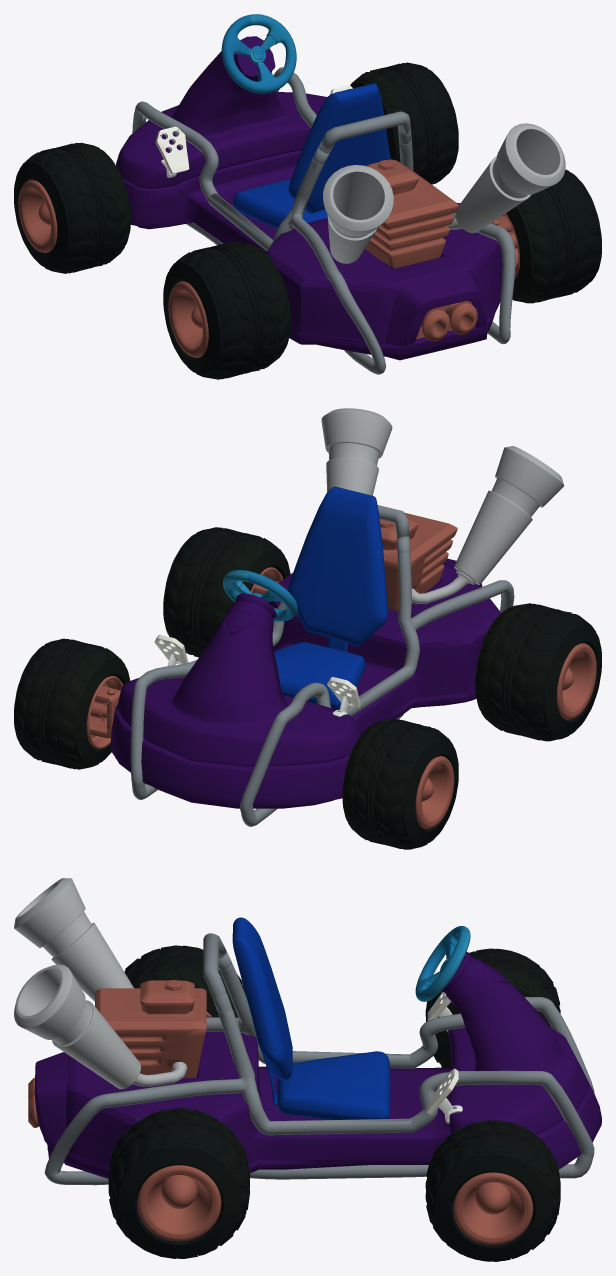
3 views of the same model, one above another, from view 1: azimuth 30°, elevation 25°; view 2: azimuth 150°, elevation 25°; view 3: azimuth 270°, elevation 25° (orthographic). The views are drawn at different scales.
Parts seen in each view (by area): view 1: kart, kart.035, kart.100, kart.099, kart.022, kart.024, kart.043, kart.017, kart.056, kart.002; view 2: kart, kart.035, kart.022, kart.099, kart.100, kart.043, kart.024, kart.017, kart.002, kart.037; view 3: kart, kart.035, kart.100, kart.099, kart.022, kart.043, kart.024, kart.017, kart.002.
Boxes of the visible parts, x1,y1,x2,y2 form: kart: [116, 36, 502, 360]; kart.035: [14, 62, 601, 379]; kart.100: [132, 67, 515, 374]; kart.099: [323, 123, 565, 263]; kart.022: [232, 83, 390, 228]; kart.024: [365, 159, 458, 268]; kart.043: [18, 180, 519, 357]; kart.017: [221, 14, 296, 93]; kart.056: [416, 300, 477, 341]; kart.002: [155, 85, 352, 177]; kart: [110, 558, 500, 808]; kart.035: [14, 527, 601, 849]; kart.022: [274, 486, 388, 709]; kart.099: [321, 408, 564, 603]; kart.100: [130, 505, 514, 826]; kart.043: [86, 567, 596, 828]; kart.024: [379, 512, 457, 610]; kart.017: [223, 570, 297, 621]; kart.002: [154, 634, 360, 716]; kart.037: [89, 581, 278, 738]; kart: [34, 951, 601, 1178]; kart.035: [108, 945, 560, 1261]; kart.100: [44, 933, 594, 1185]; kart.099: [14, 878, 187, 1089]; kart.022: [232, 917, 390, 1119]; kart.043: [137, 1012, 533, 1244]; kart.024: [95, 980, 206, 1077]; kart.017: [415, 926, 470, 1001]; kart.002: [426, 992, 462, 1123].
Size of the model in its own units: 7260 by 3889 by 8599.
1 material, 1 textured.
